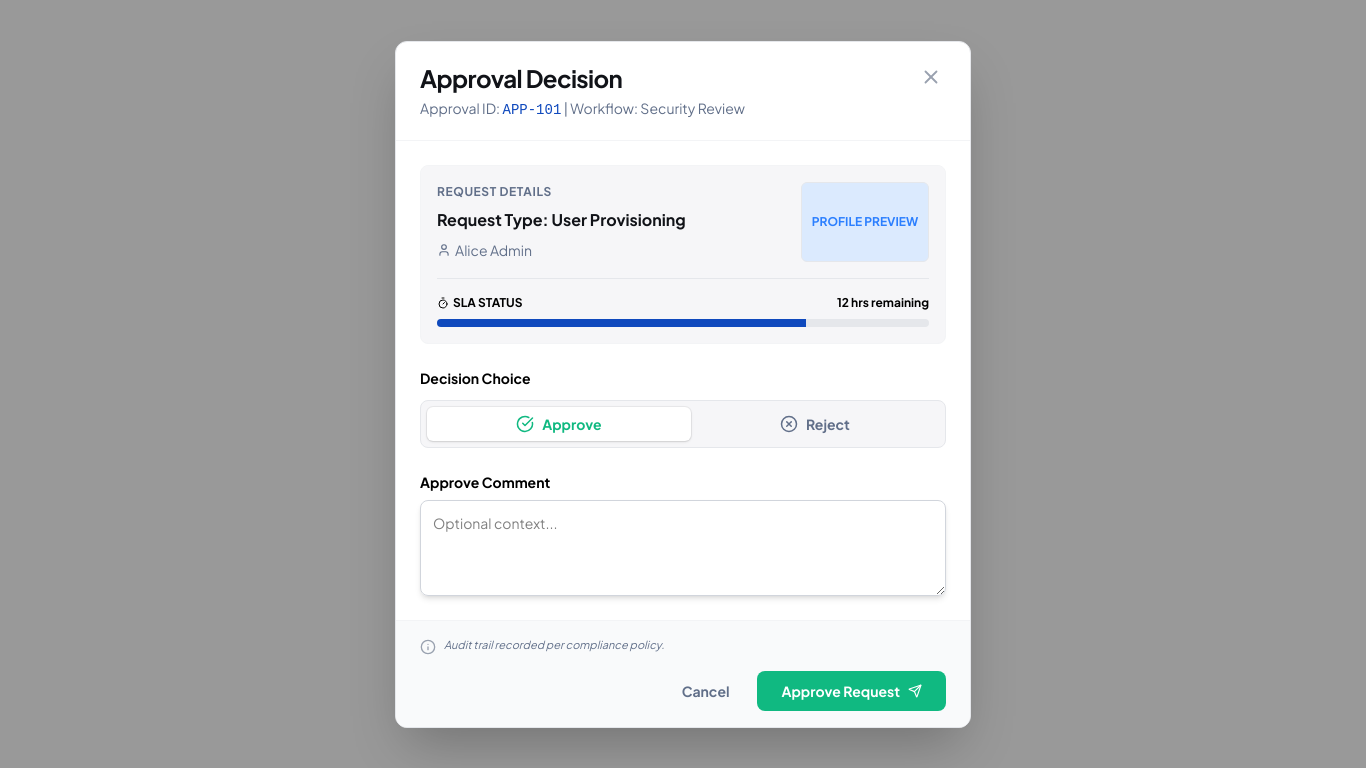
Test: ApprovalDecisionModal Component › switches decision choice when clicked
Click the button "Reject". click: (815, 424)
box: x1=691 y1=406 x2=939 y2=440
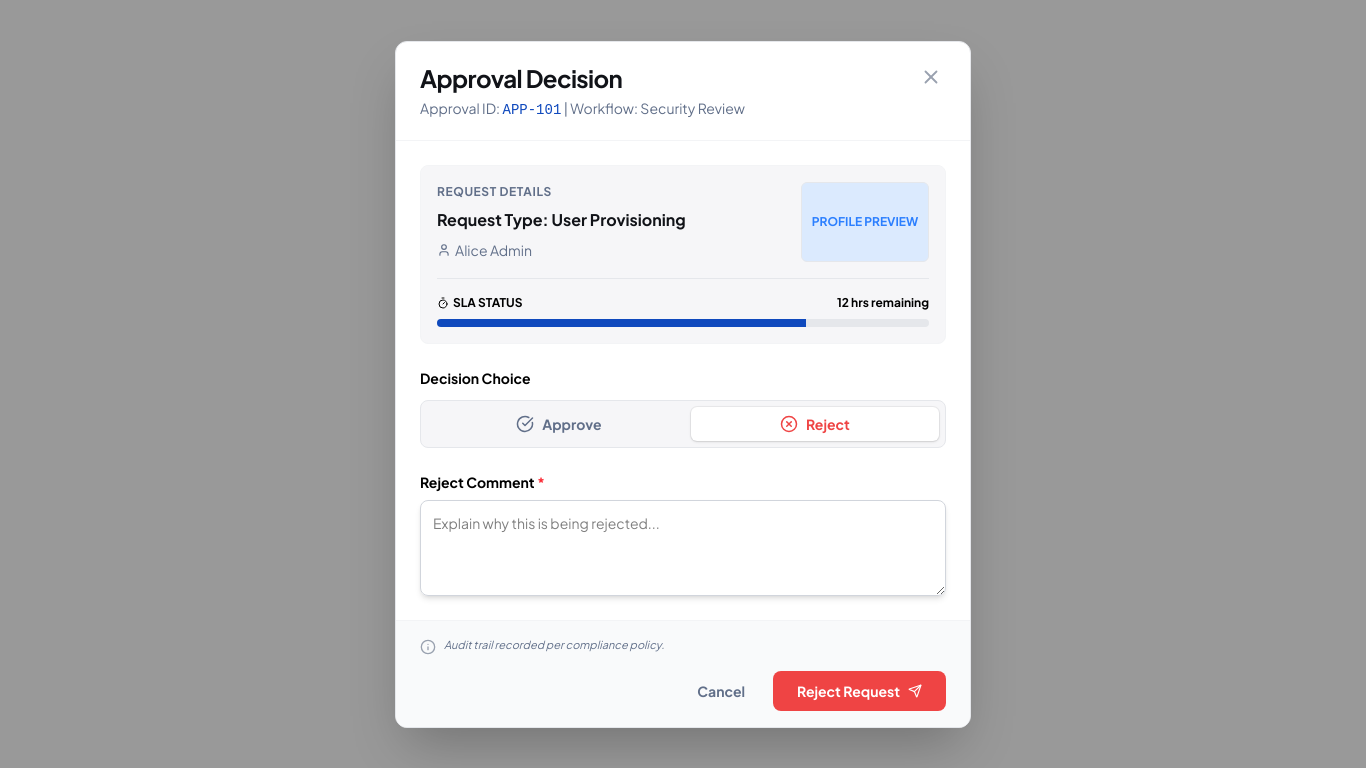
Now the text "Reject Comment *" is shown, box x1=420 y1=472 x2=545 y2=490
